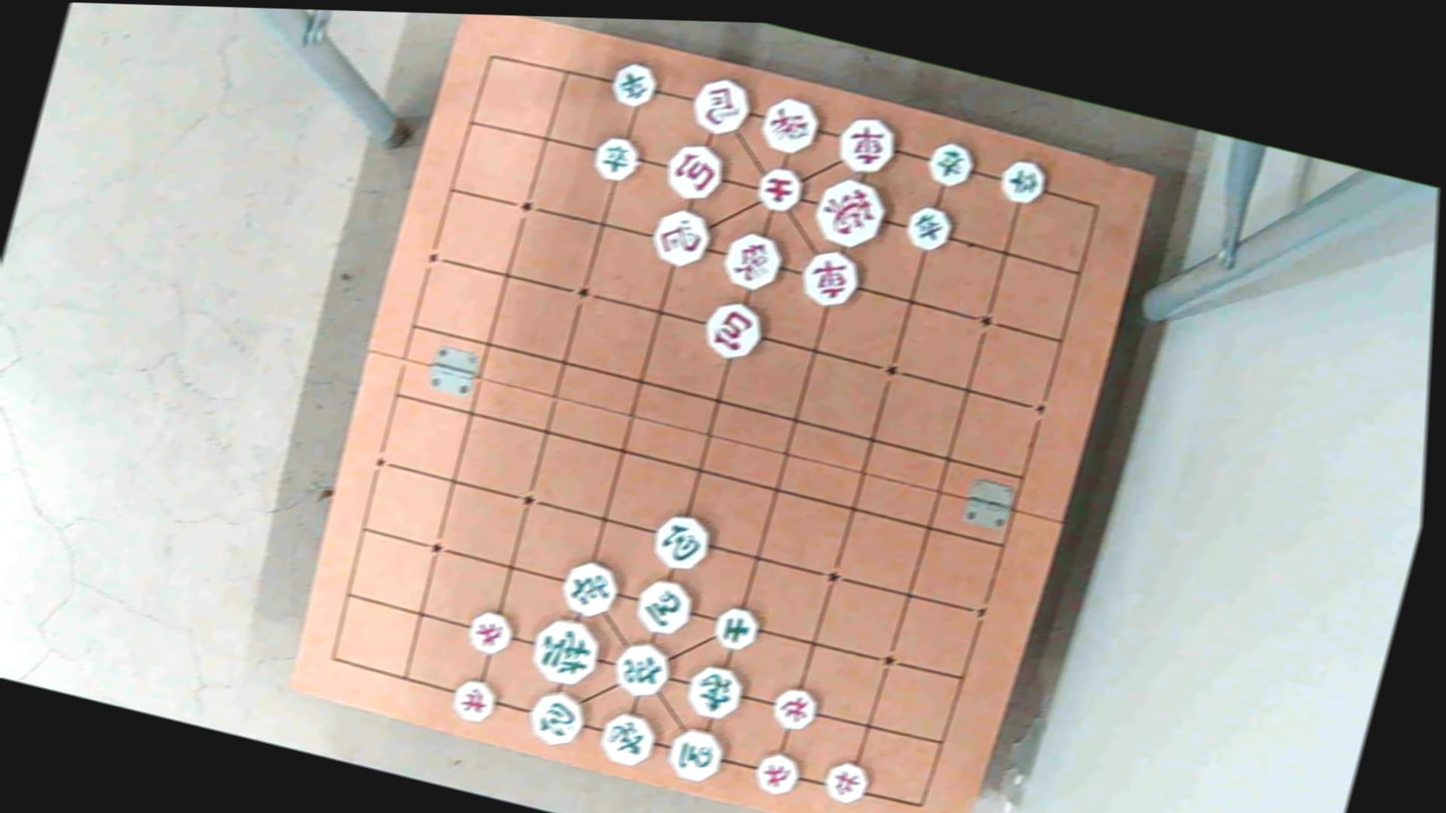cha_green: (556, 559, 624, 624), (605, 638, 675, 700)
cha_red: (833, 110, 901, 177), (795, 248, 868, 310)
jol_green: (603, 59, 664, 110), (901, 202, 956, 256), (994, 155, 1051, 206), (590, 136, 647, 184), (923, 139, 978, 187)
jol_red: (462, 604, 523, 656), (749, 746, 803, 800), (820, 758, 875, 807), (769, 684, 824, 732), (447, 674, 499, 724)
ma_green: (629, 574, 697, 637), (660, 723, 730, 782)
ma_red: (687, 70, 758, 138), (648, 206, 718, 269)
po_green: (650, 508, 718, 571), (523, 687, 591, 746)
po_red: (697, 298, 767, 359), (661, 139, 730, 199)
sa_green: (706, 600, 764, 657)
sa_red: (754, 165, 810, 215)
sang_green: (679, 660, 747, 721), (593, 706, 660, 767)
sang_red: (755, 93, 827, 158), (716, 227, 785, 294)
wang_green: (523, 614, 607, 690)
wang_red: (809, 174, 897, 250)
